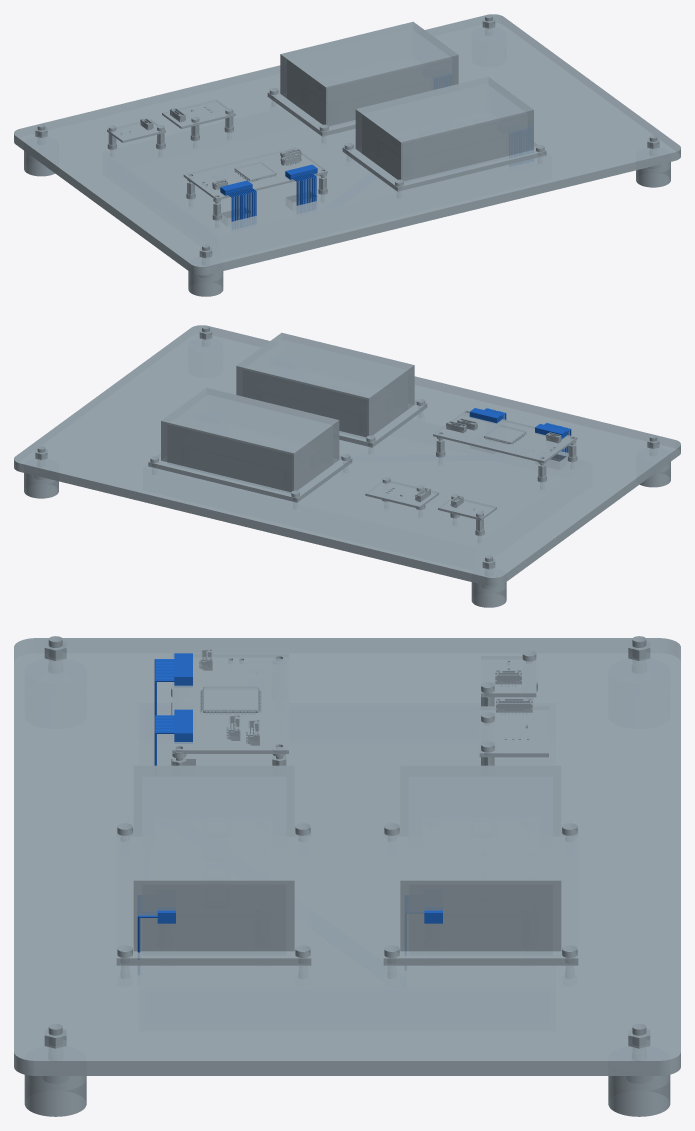
Rendered from HR30_E1_controls_fixture_with_logic_harness_candidate.glb.
3 renders of one model, top to bottom at view 1: azimuth 30°, elevation 25°; view 2: azimuth 150°, elevation 25°; view 3: azimuth 270°, elevation 25°, orthographic. The views are drawn at different scales.
Visible parts, largest first — view 1: E1_BASE_FIXTURE, E1_LOGIC_HARNESS_ASSEMBLIES; view 2: E1_BASE_FIXTURE, E1_LOGIC_HARNESS_ASSEMBLIES; view 3: E1_BASE_FIXTURE, E1_LOGIC_HARNESS_ASSEMBLIES.
Part boxes in pixels (left/top/right/bottom): E1_BASE_FIXTURE: left=14, top=14, right=680, bottom=296; E1_LOGIC_HARNESS_ASSEMBLIES: left=220, top=75, right=533, bottom=229; E1_BASE_FIXTURE: left=14, top=325, right=680, bottom=607; E1_LOGIC_HARNESS_ASSEMBLIES: left=469, top=408, right=571, bottom=460; E1_BASE_FIXTURE: left=14, top=636, right=680, bottom=1116; E1_LOGIC_HARNESS_ASSEMBLIES: left=137, top=653, right=442, bottom=974.
Size of the model in its own units: 360 by 55 by 240.
